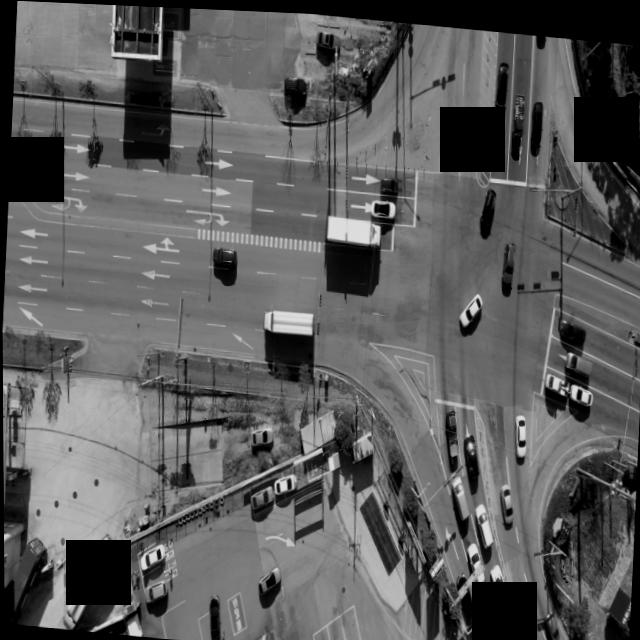car: (471, 497, 494, 544), (486, 559, 508, 603), (449, 470, 469, 518), (463, 538, 484, 583), (457, 287, 480, 325), (460, 431, 477, 474), (137, 542, 161, 571), (257, 564, 280, 594), (563, 347, 591, 371), (496, 479, 511, 521), (513, 410, 527, 455), (478, 185, 492, 230), (557, 314, 584, 337), (144, 577, 167, 604), (248, 484, 271, 510), (205, 592, 219, 634), (541, 608, 559, 640), (501, 235, 514, 279), (530, 96, 543, 139), (272, 468, 295, 492), (496, 58, 508, 104), (565, 379, 589, 401), (250, 423, 273, 445), (371, 194, 395, 215), (210, 245, 234, 264), (282, 73, 303, 92), (378, 174, 399, 191), (316, 28, 334, 46), (535, 29, 546, 46), (511, 636, 533, 640)
medium_truck: (60, 527, 112, 630), (325, 212, 380, 246), (262, 303, 313, 334), (479, 608, 516, 640)
small_truck: (442, 401, 460, 462), (512, 90, 525, 134), (543, 368, 566, 391)
